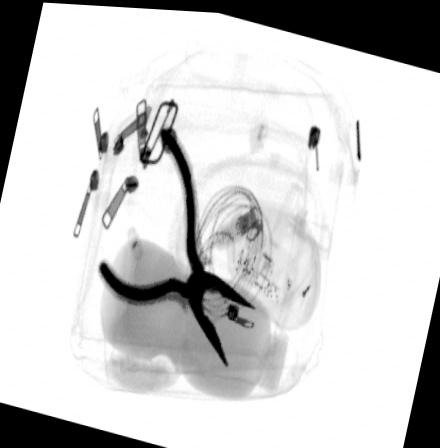Pliers: (96, 121, 257, 364)
